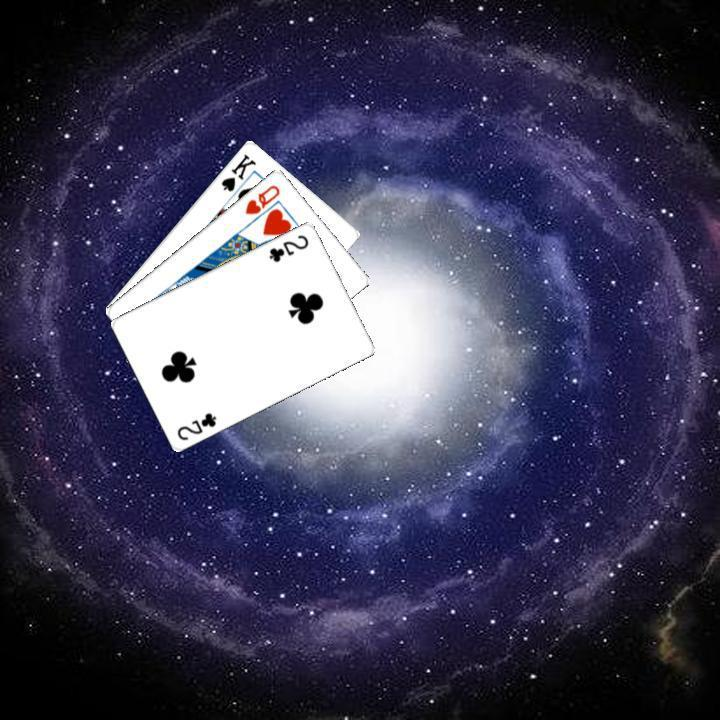2: (172, 408, 219, 442), (265, 230, 311, 264)
K: (216, 149, 258, 193)
Q: (240, 180, 282, 216)
